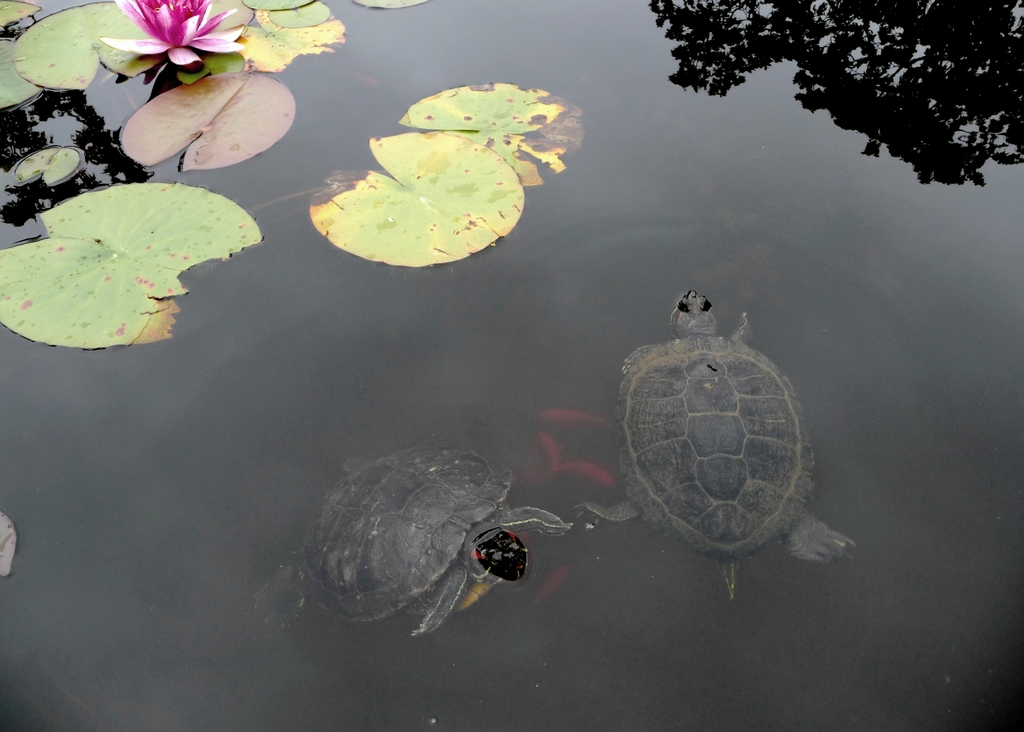Sea turtles: (581, 288, 856, 596), (262, 447, 571, 641)
